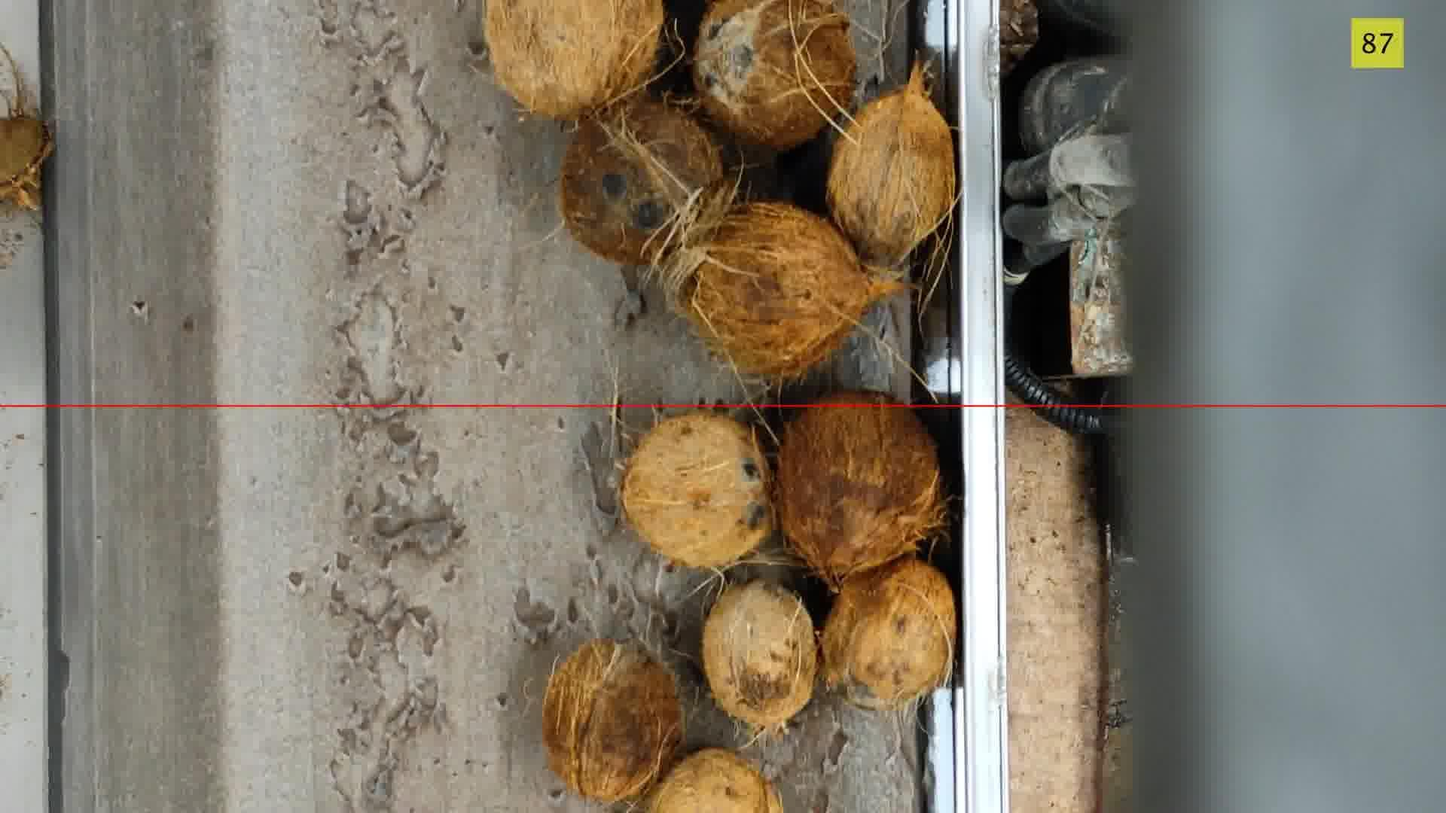Coconut: (667, 202, 904, 381), (774, 391, 946, 591), (559, 97, 723, 264), (826, 63, 956, 266), (693, 0, 856, 150), (621, 412, 773, 568), (543, 639, 682, 802), (484, 0, 664, 120), (822, 556, 956, 709), (702, 580, 819, 732), (644, 748, 782, 812), (0, 46, 53, 209)
